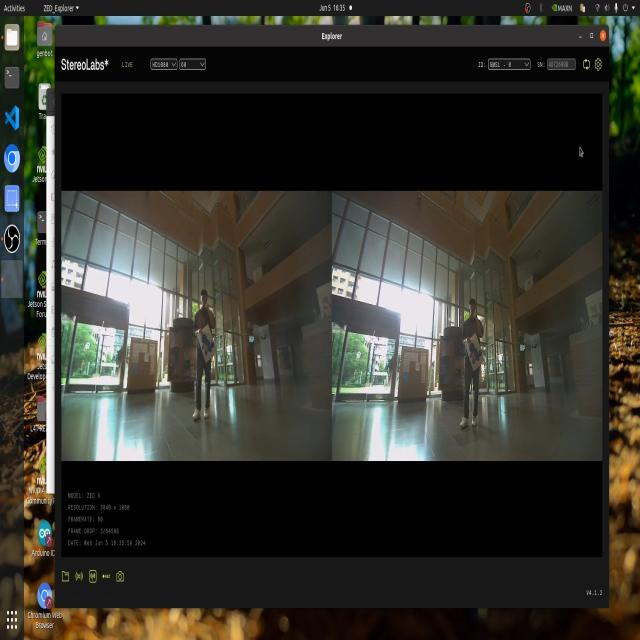blue: (198, 325, 214, 359), (468, 337, 484, 367)
